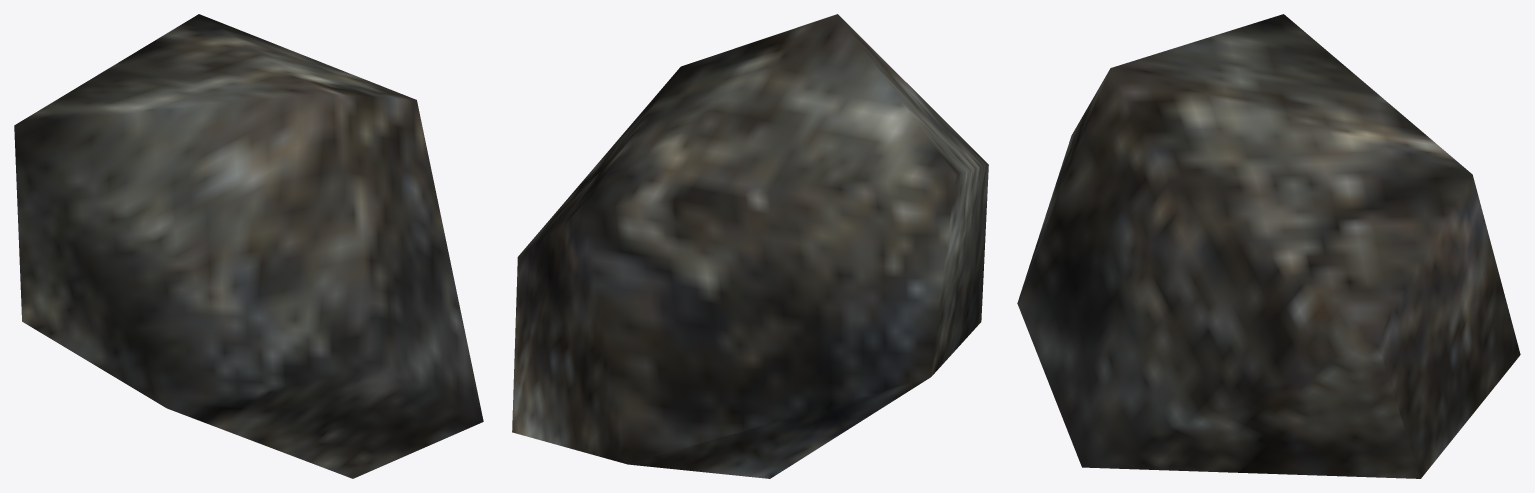
The model's file is Rock4B_LOD1.fbx.
3 views of the same model, side by side, from view 1: azimuth 30°, elevation 25°; view 2: azimuth 150°, elevation 25°; view 3: azimuth 270°, elevation 25° (orthographic). The views are drawn at different scales.
Visible parts, largest first — view 1: polySurface9; view 2: polySurface9; view 3: polySurface9.
Part boxes in pixels (x1,y1,x2,y2): polySurface9: [14, 14, 483, 478]; polySurface9: [512, 14, 988, 478]; polySurface9: [1017, 14, 1520, 478].
Size of the model in its own units: 3.76 by 3.43 by 4.32.
